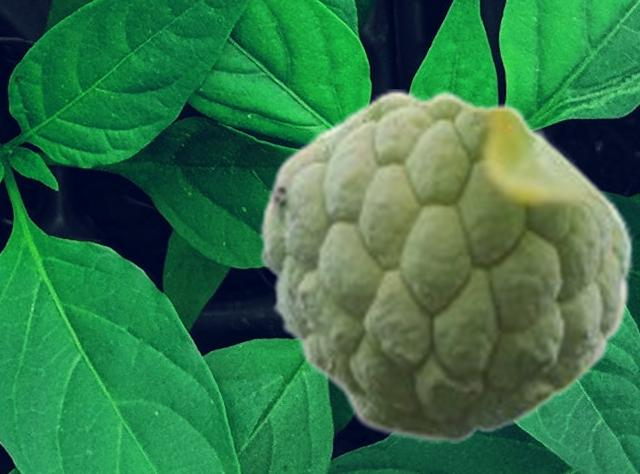atis: (258, 89, 635, 442)
